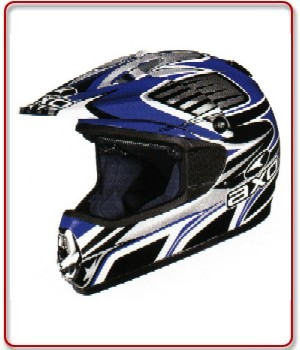helmet: (44, 54, 271, 278)
